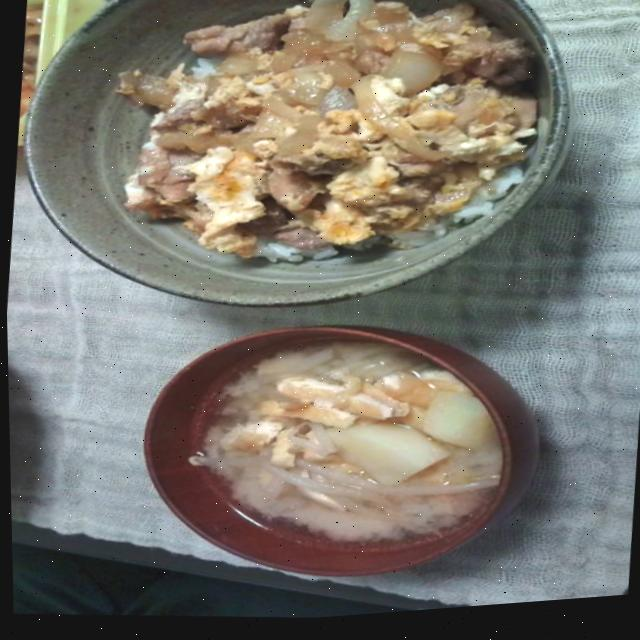汤锅炖物: (119, 307, 531, 615)
米饭主食: (2, 0, 579, 351)
